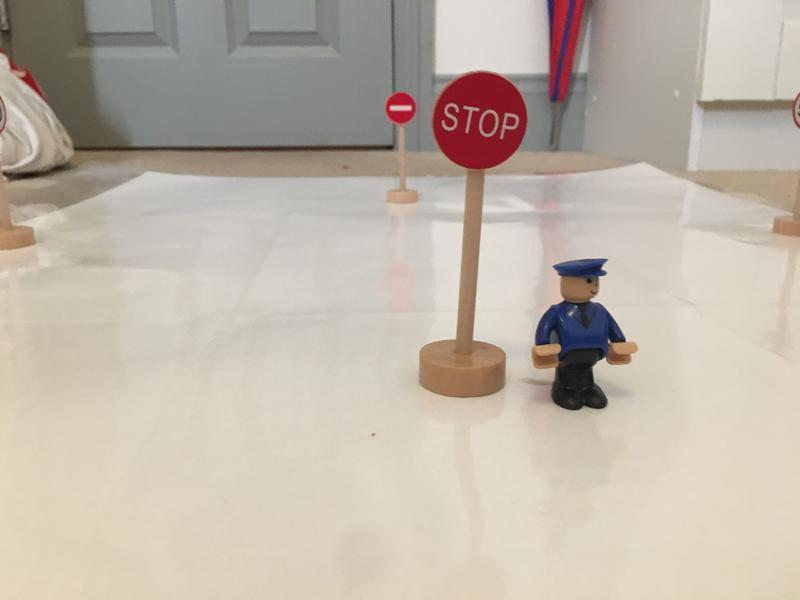Traffic_Sign_No_Entry: (387, 92, 416, 123)
Traffic_Sign_Stop: (431, 71, 527, 168)
person: (528, 255, 637, 414)
